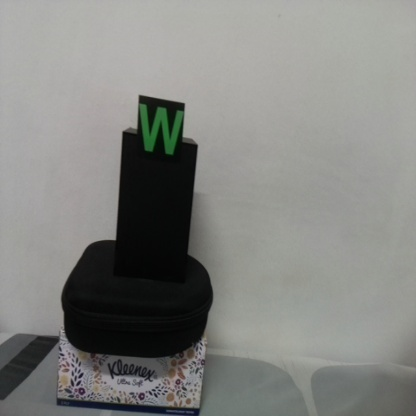id_12: (138, 96, 185, 164)
